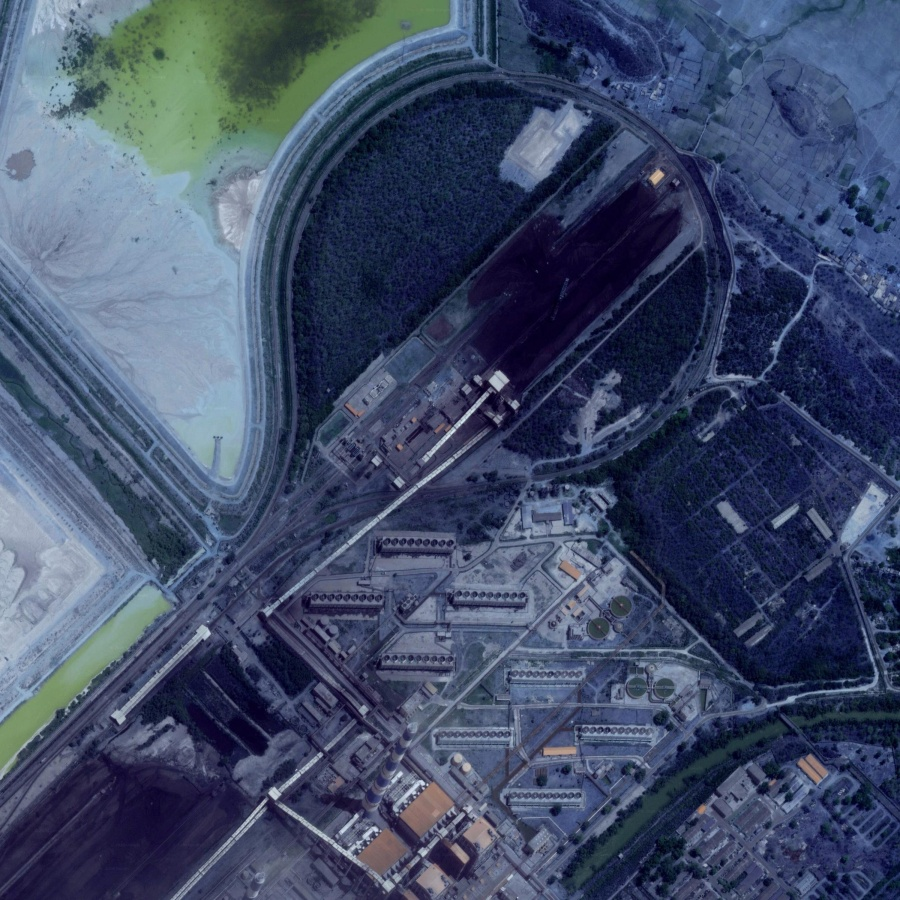PowerPlant: (422, 149, 700, 430)
